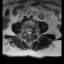CCS_stenosis: (28, 29, 30, 36)
LFS_severe_stenosis: (32, 28, 34, 33)
LLS_normal: (30, 29, 32, 36)
RFS_normal: (24, 28, 26, 34)
RLS_normal: (26, 29, 28, 35)
